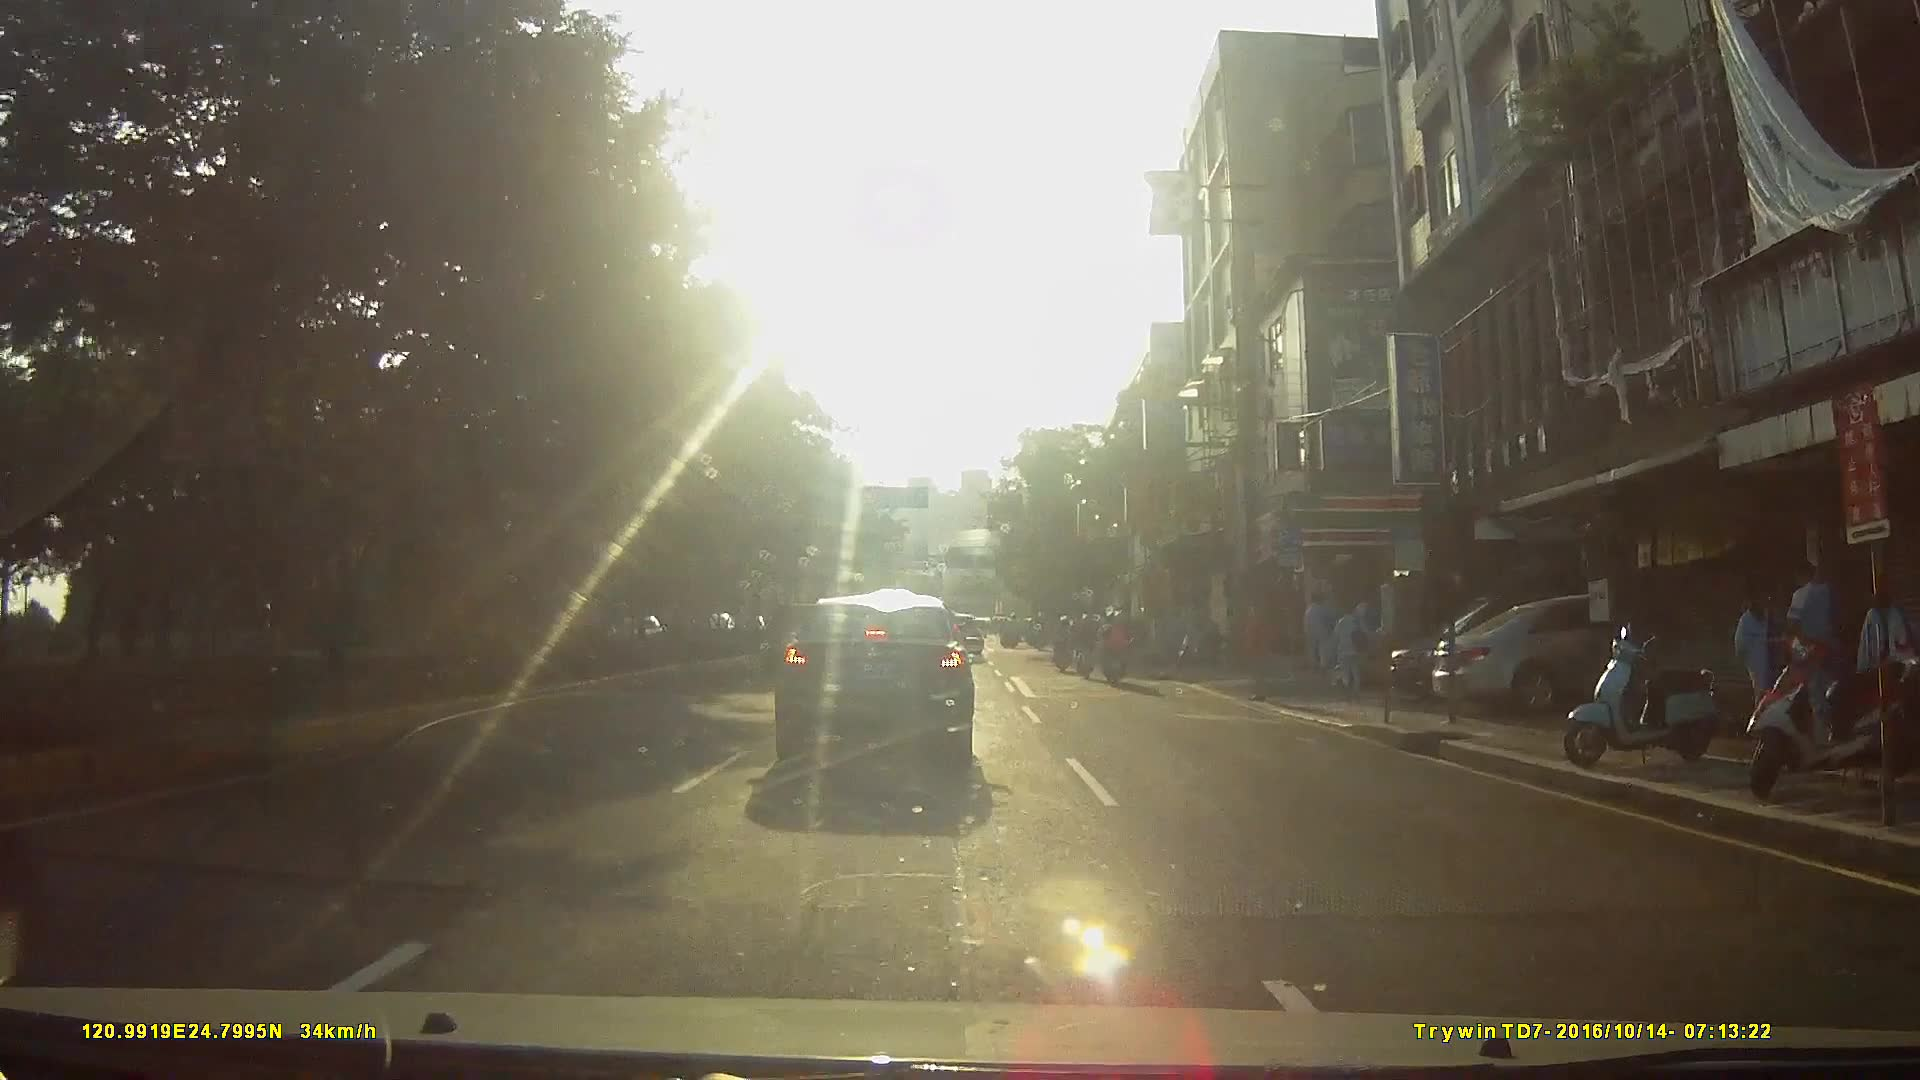pedestrian: (1782, 555, 1843, 759), (1857, 579, 1920, 754), (1734, 578, 1782, 740), (1327, 596, 1374, 702)
rider: (1098, 611, 1136, 692), (1071, 613, 1097, 683), (1051, 616, 1076, 677)
vehicle: (755, 580, 996, 779), (1426, 590, 1772, 713)
